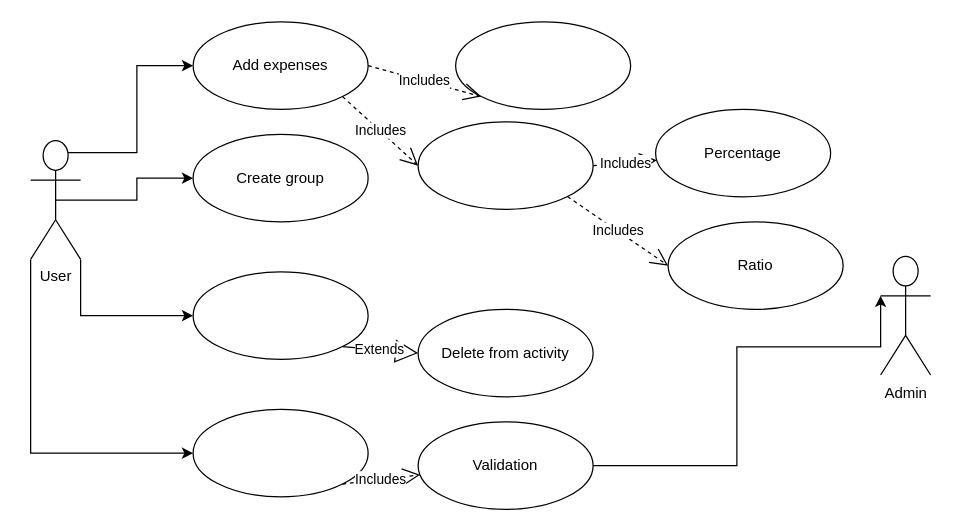
Some shapes in this 953 by 531 pixel diagram are drawn without their labels. The centre of each missing label's shape, as x and y in pixels:
"Equally" belongs at [542,65].
"Login" belongs at [280,452].
"Unequally" belongs at [505,165].
"watch Activity" belongs at [280,315].
